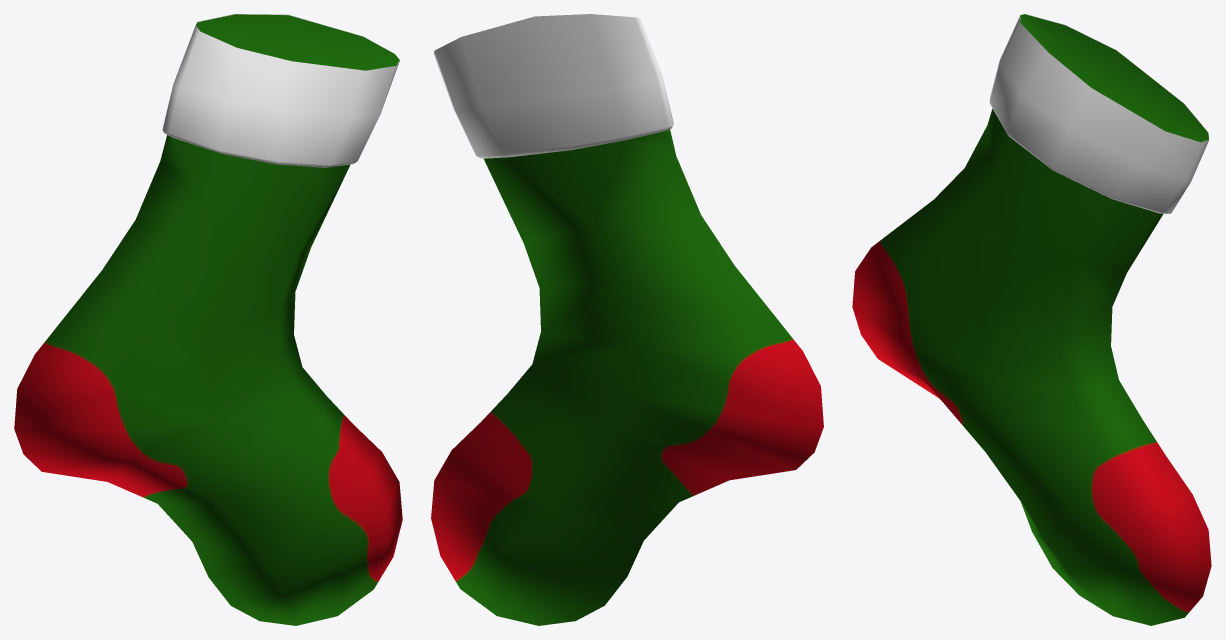
The model's file is edit sock.fbx.
The picture shows the model from 3 angles, left to right: view 1: azimuth 30°, elevation 25°; view 2: azimuth 150°, elevation 25°; view 3: azimuth 330°, elevation 25°; orthographic projection. The views are drawn at different scales.
Parts seen in each view (by area): view 1: norvedem-sock; view 2: norvedem-sock; view 3: norvedem-sock.
Part boxes in pixels (left/top/right/bottom): norvedem-sock: left=14, top=14, right=402, bottom=625; norvedem-sock: left=431, top=14, right=823, bottom=625; norvedem-sock: left=852, top=14, right=1211, bottom=625.
Bounding box in the file's own units: 38.44 × 59.27 × 8.2.
1 material, 1 textured.
